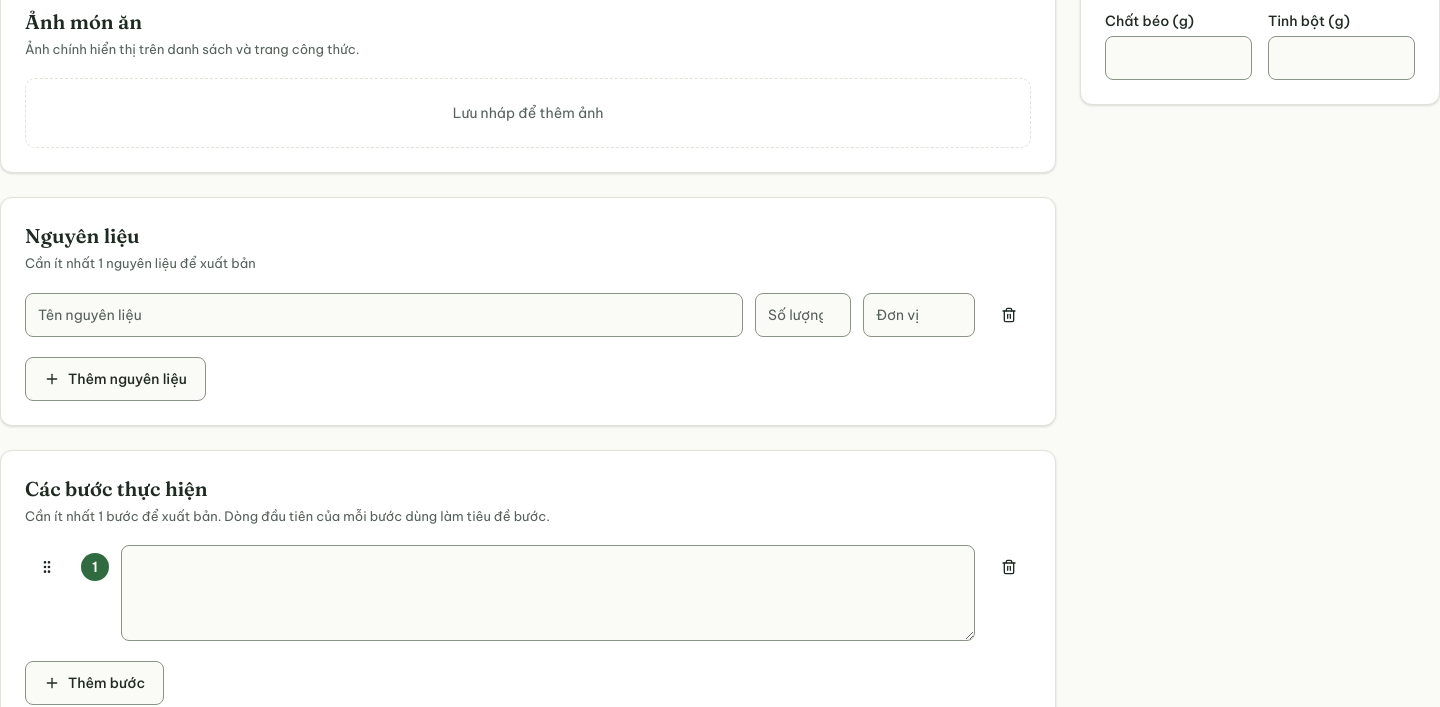
Test: RecipeEditor › disables publish until there is an ingredient and a step
(page scrolled)
Type "Thịt bò" into the field named "Tên nguyên liệu 1".
click(384, 315); type("Thịt bò")  # box [25,293,743,337]
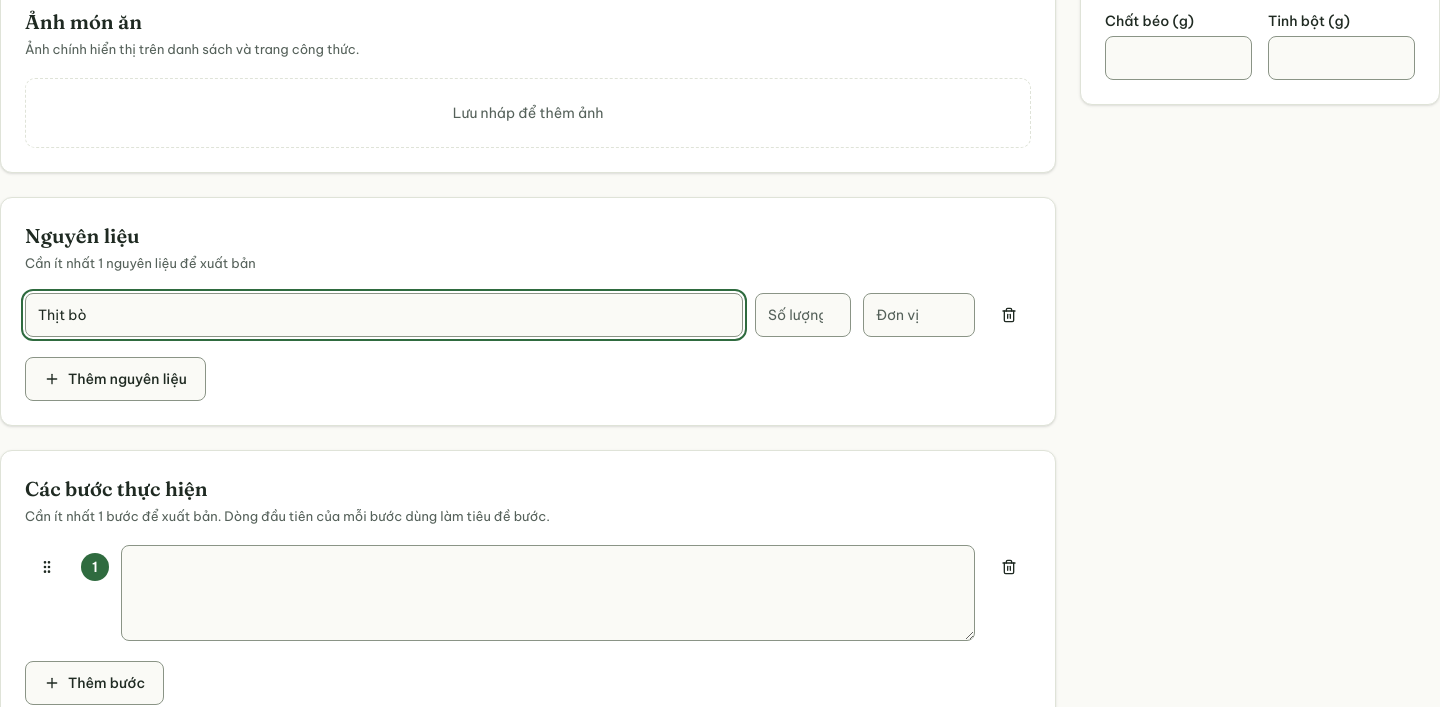
Type "Ninh xương" into the text box named "Nội dung bước 1".
click(548, 593); type("Ninh xương")  # box [121,545,975,641]
(page scrolled)
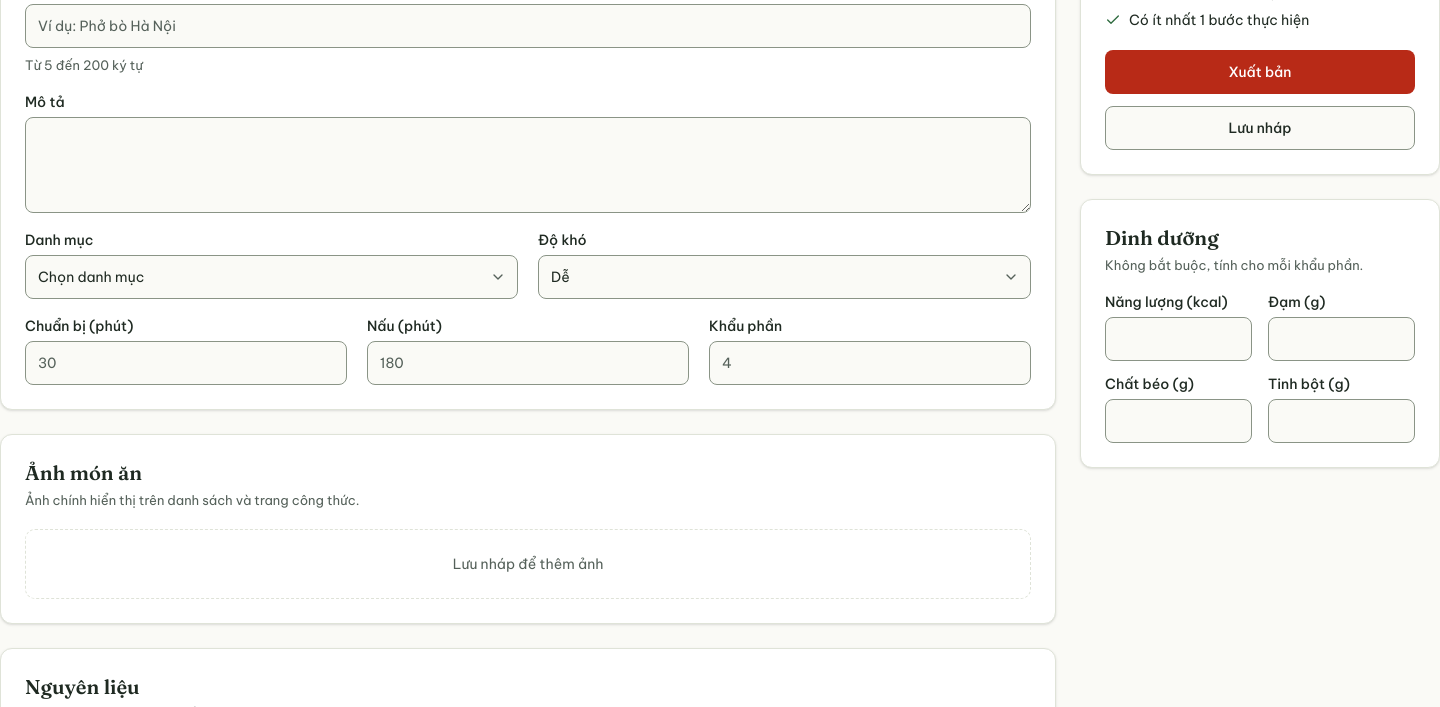
Check: the button "Xuất bản" is enabled, box [1105,50,1415,94]
